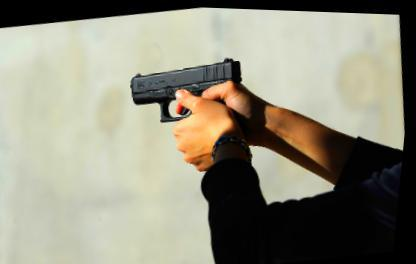pistol: (125, 49, 250, 128)
